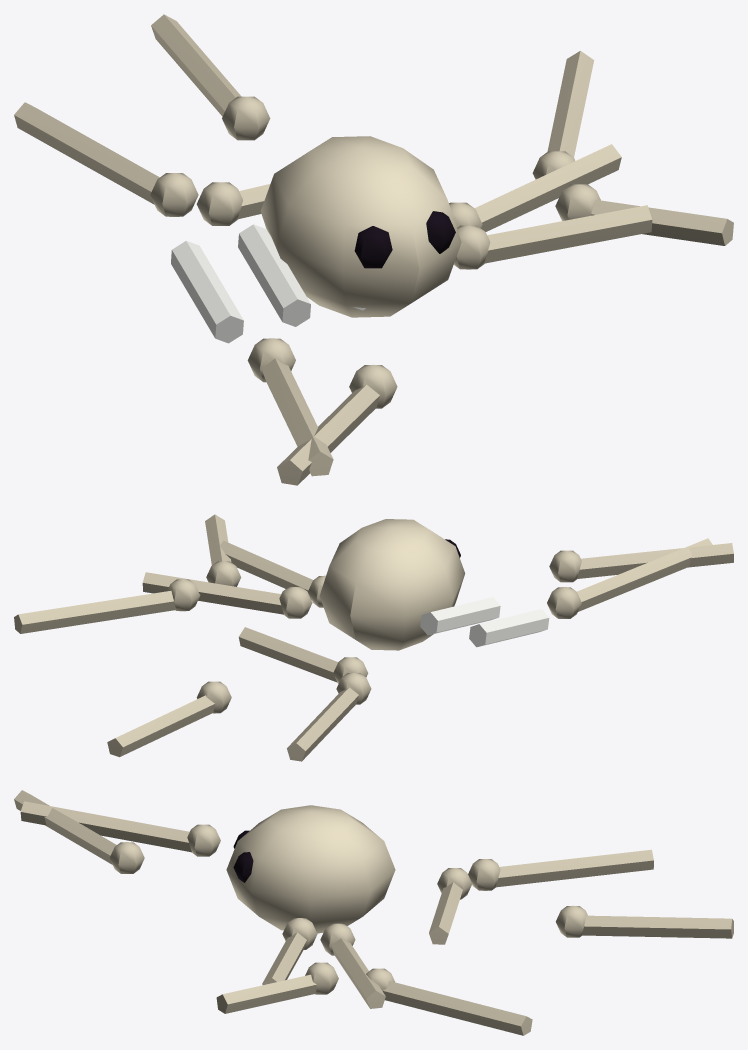
File: bones.glb
3 views of the same model, one above another, from view 1: azimuth 30°, elevation 25°; view 2: azimuth 150°, elevation 25°; view 3: azimuth 270°, elevation 25° (orthographic). The views are drawn at different scales.
Visible parts, largest first — view 1: bones, bones_craft; view 2: bones, bones_craft; view 3: bones.
Boxes of the visible parts, x1,y1,x2,y2 form: bones: (14,14,733,485); bones_craft: (171,224,366,343); bones: (14,514,733,761); bones_craft: (420,597,549,647); bones: (14,790,733,1035).
Bounding box in the file's own units: 1.56 × 0.34 × 2.04.
